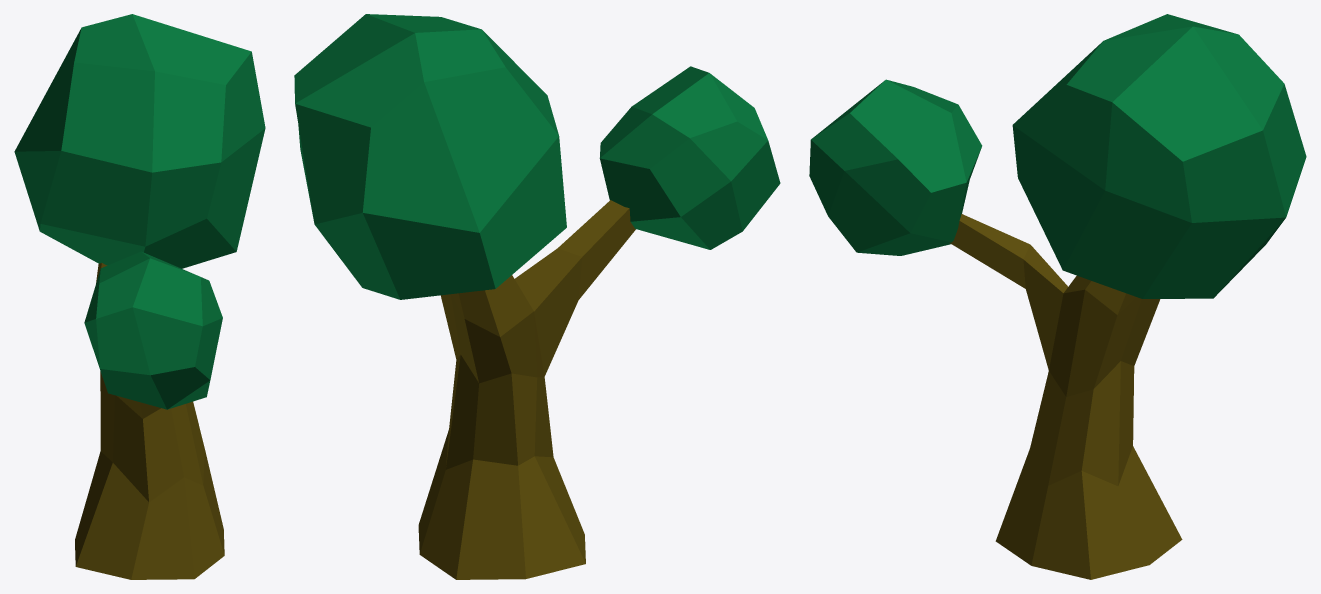
The model's file is OakTree.fbx.
3 views of the same model, side by side, from view 1: azimuth 30°, elevation 25°; view 2: azimuth 150°, elevation 25°; view 3: azimuth 270°, elevation 25° (orthographic). The views are drawn at different scales.
Visible parts, largest first — view 1: OakTree; view 2: OakTree; view 3: OakTree.
Boxes of the visible parts, x1,y1,x2,y2 form: OakTree: (14, 14, 265, 579); OakTree: (294, 14, 780, 579); OakTree: (809, 14, 1306, 579).
Size of the model in its own units: 2.08 by 3.3 by 2.81.
